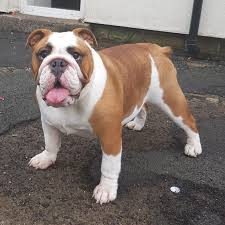Bulldog: (16, 13, 206, 207)
